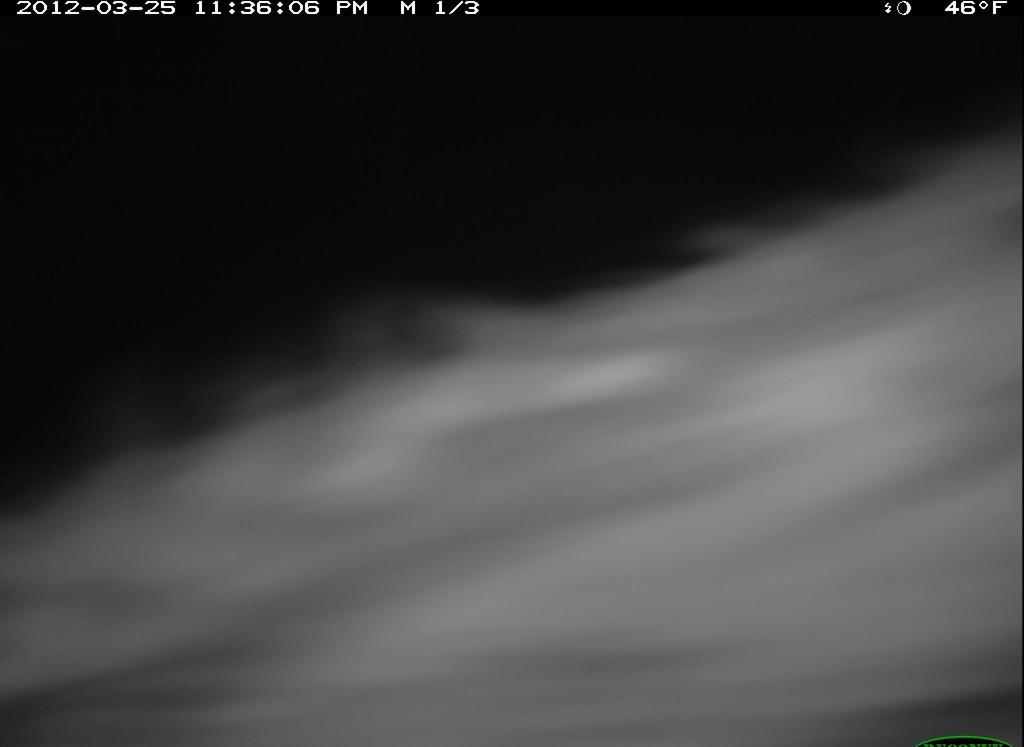raccoon: (7, 108, 1023, 747)
